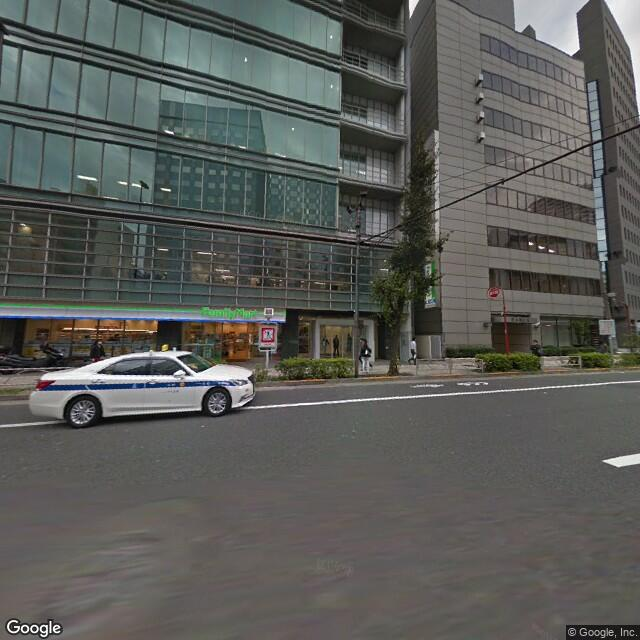family_mart: (2, 295, 289, 327), (192, 302, 260, 323)
